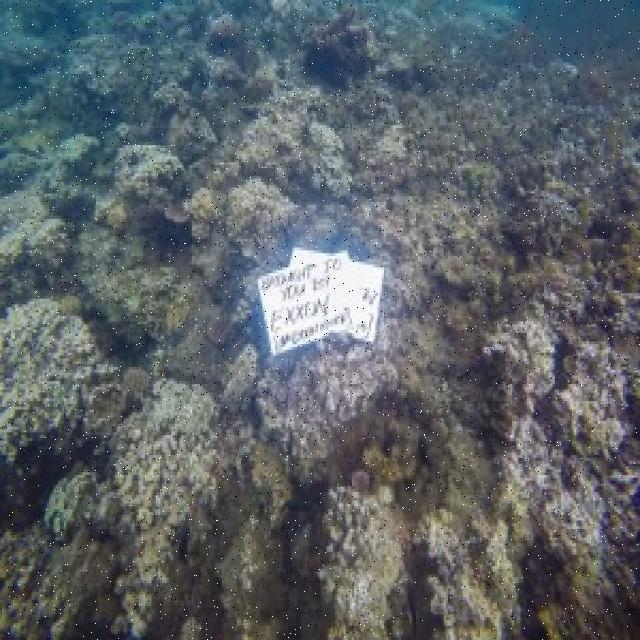Bleached: (509, 337, 616, 512), (142, 377, 204, 515), (317, 497, 385, 621), (1, 309, 79, 416), (269, 370, 376, 448)
Healthy: (1, 1, 296, 231), (378, 129, 640, 271)
